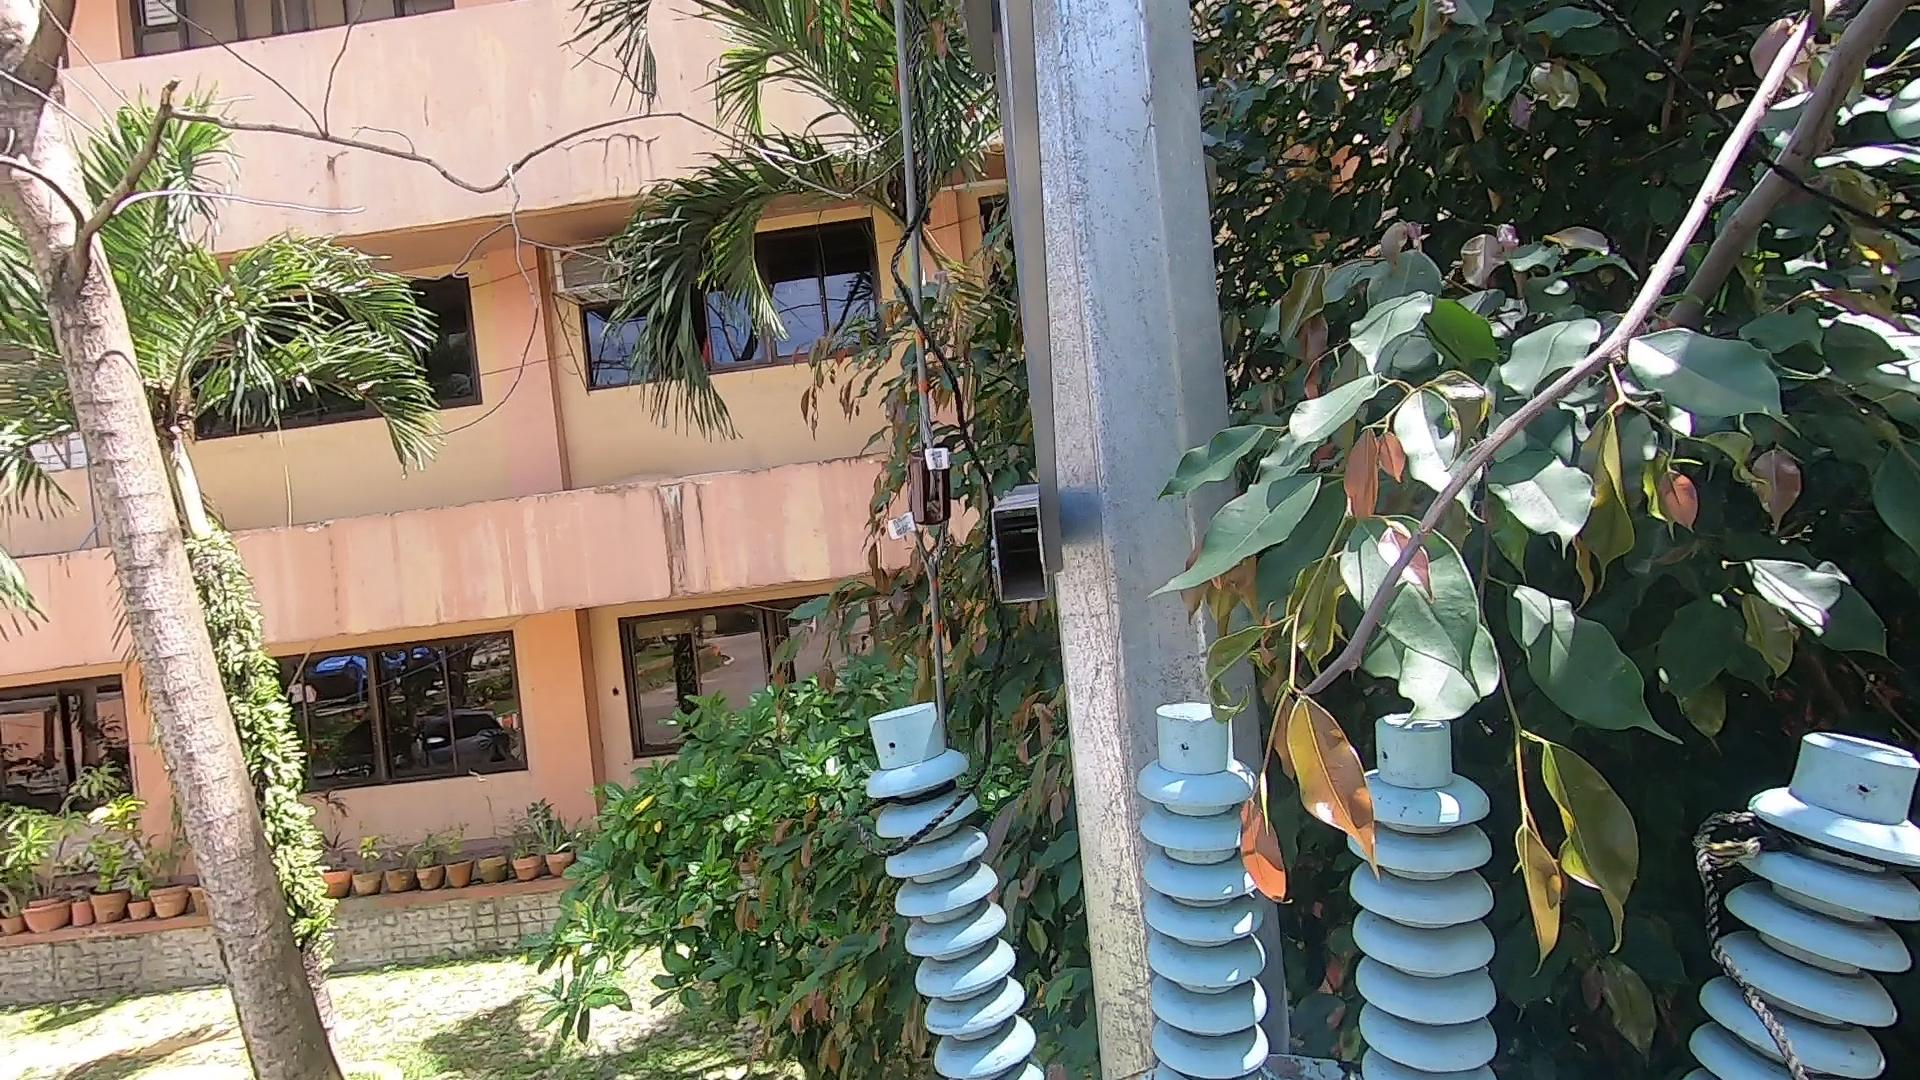tree branch: (1255, 1, 1913, 723)
